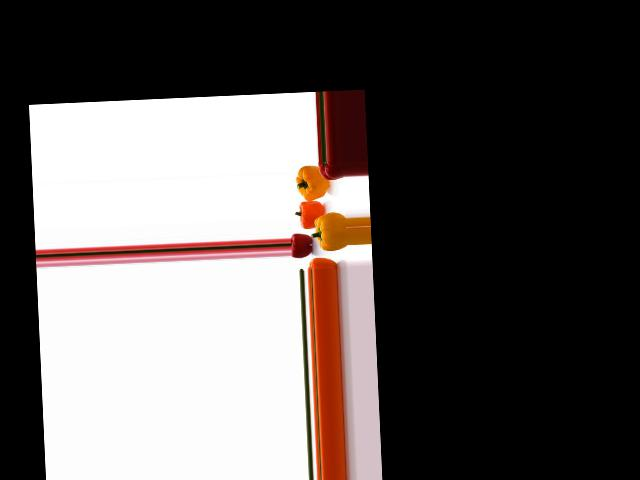bell_pepper: (306, 255, 337, 271)
